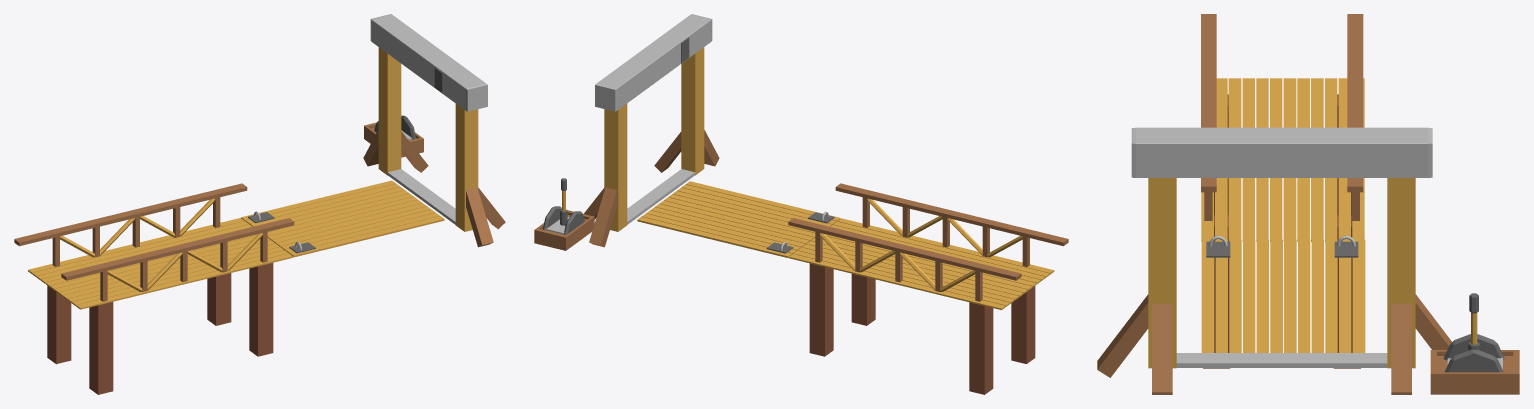
Rendered from umbra3.fbx.
The picture shows the model from 3 angles, left to right: view 1: azimuth 30°, elevation 25°; view 2: azimuth 150°, elevation 25°; view 3: azimuth 270°, elevation 25°; orthographic projection. The views are drawn at different scales.
Parts seen in each view (by area): view 1: lever, NurbsPath.001, Circle; view 2: lever, NurbsPath.001, Circle; view 3: lever, NurbsPath.001, Circle, Cylinder.004.
Part boxes in pixels (<box>): lever: <box>14,14,505,394</box>; NurbsPath.001: <box>241,180,444,257</box>; Circle: <box>364,115,423,157</box>; lever: <box>584,14,1068,394</box>; NurbsPath.001: <box>637,181,840,257</box>; Circle: <box>534,206,594,250</box>; lever: <box>1097,14,1451,394</box>; NurbsPath.001: <box>1201,236,1365,352</box>; Circle: <box>1430,334,1519,394</box>; Cylinder.004: <box>1468,293,1479,350</box>.
Size of the model in its own units: 1774 by 937 by 968.
